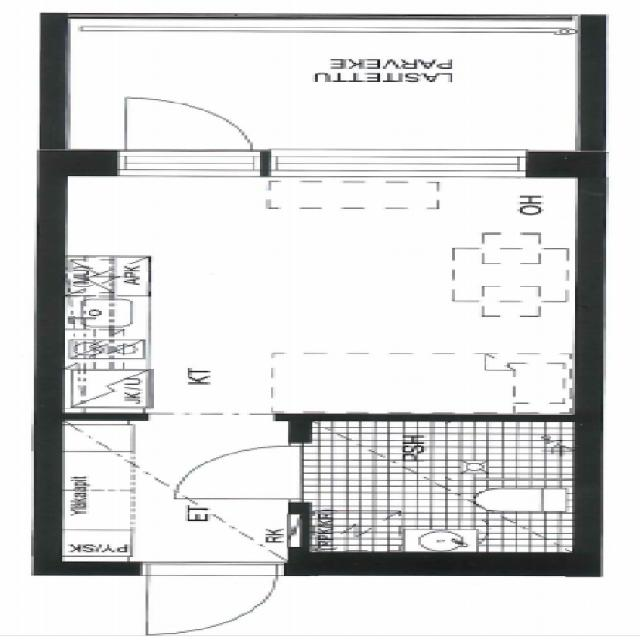door: (126, 93, 250, 175), (146, 562, 276, 636), (177, 446, 308, 499)
